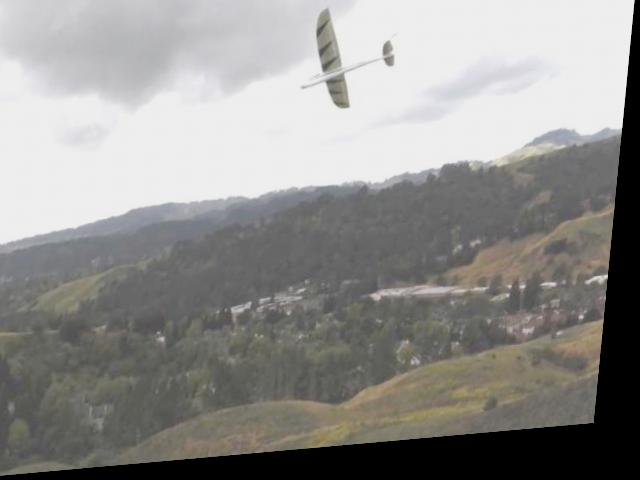iha: (296, 1, 407, 125)
